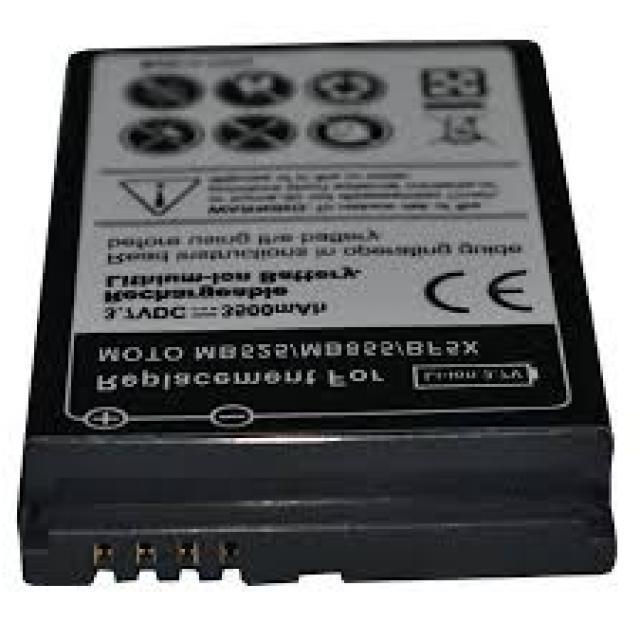battery: (19, 37, 618, 588)
